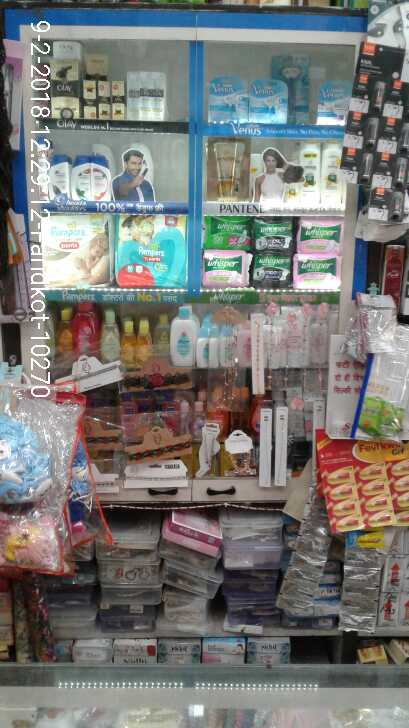venus: (208, 74, 249, 120), (287, 57, 310, 123), (249, 78, 285, 120), (319, 79, 353, 123)
